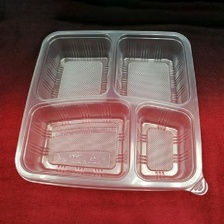plastic_box: (9, 21, 215, 202)
